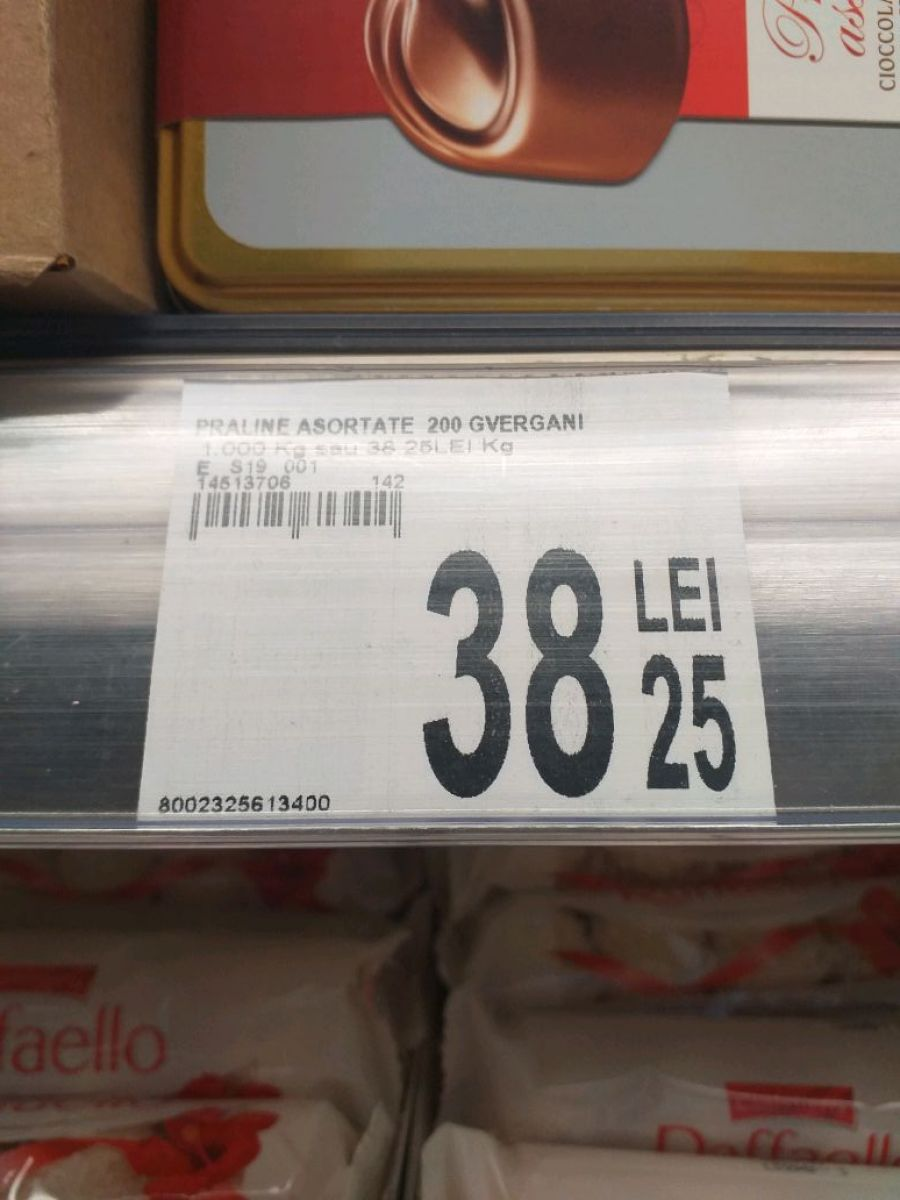price_bani: (632, 646, 747, 802)
price_lei: (412, 543, 624, 804)
price_tag: (113, 352, 801, 838)
product_id: (145, 788, 341, 816)
product_name: (174, 397, 601, 443)
